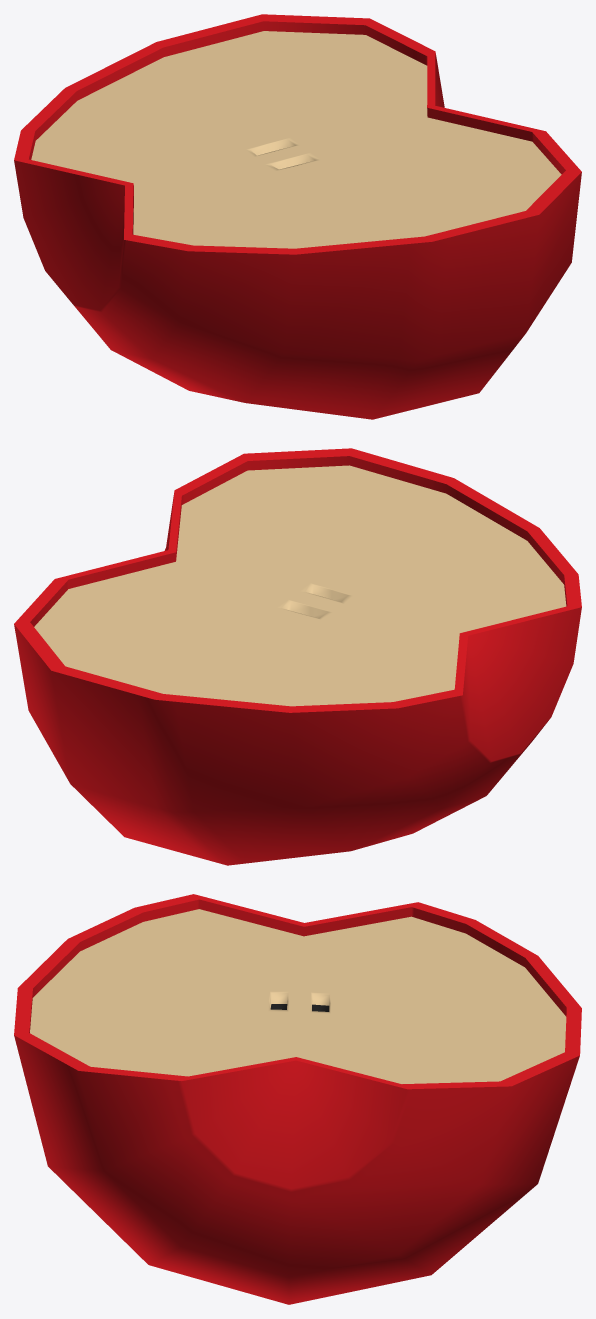
Rendered from applePie.fbx.
3 views of the same model, one above another, from view 1: azimuth 30°, elevation 25°; view 2: azimuth 150°, elevation 25°; view 3: azimuth 270°, elevation 25° (orthographic). The views are drawn at different scales.
Parts seen in each view (by area): view 1: polovica_Sphere.002; view 2: polovica_Sphere.002; view 3: polovica_Sphere.002.
Boxes of the visible parts, x1,y1,x2,y2 form: polovica_Sphere.002: [14, 14, 581, 419]; polovica_Sphere.002: [14, 448, 581, 865]; polovica_Sphere.002: [14, 894, 581, 1304].
Size of the model in its own units: 1.3 by 0.8034 by 1.56.
